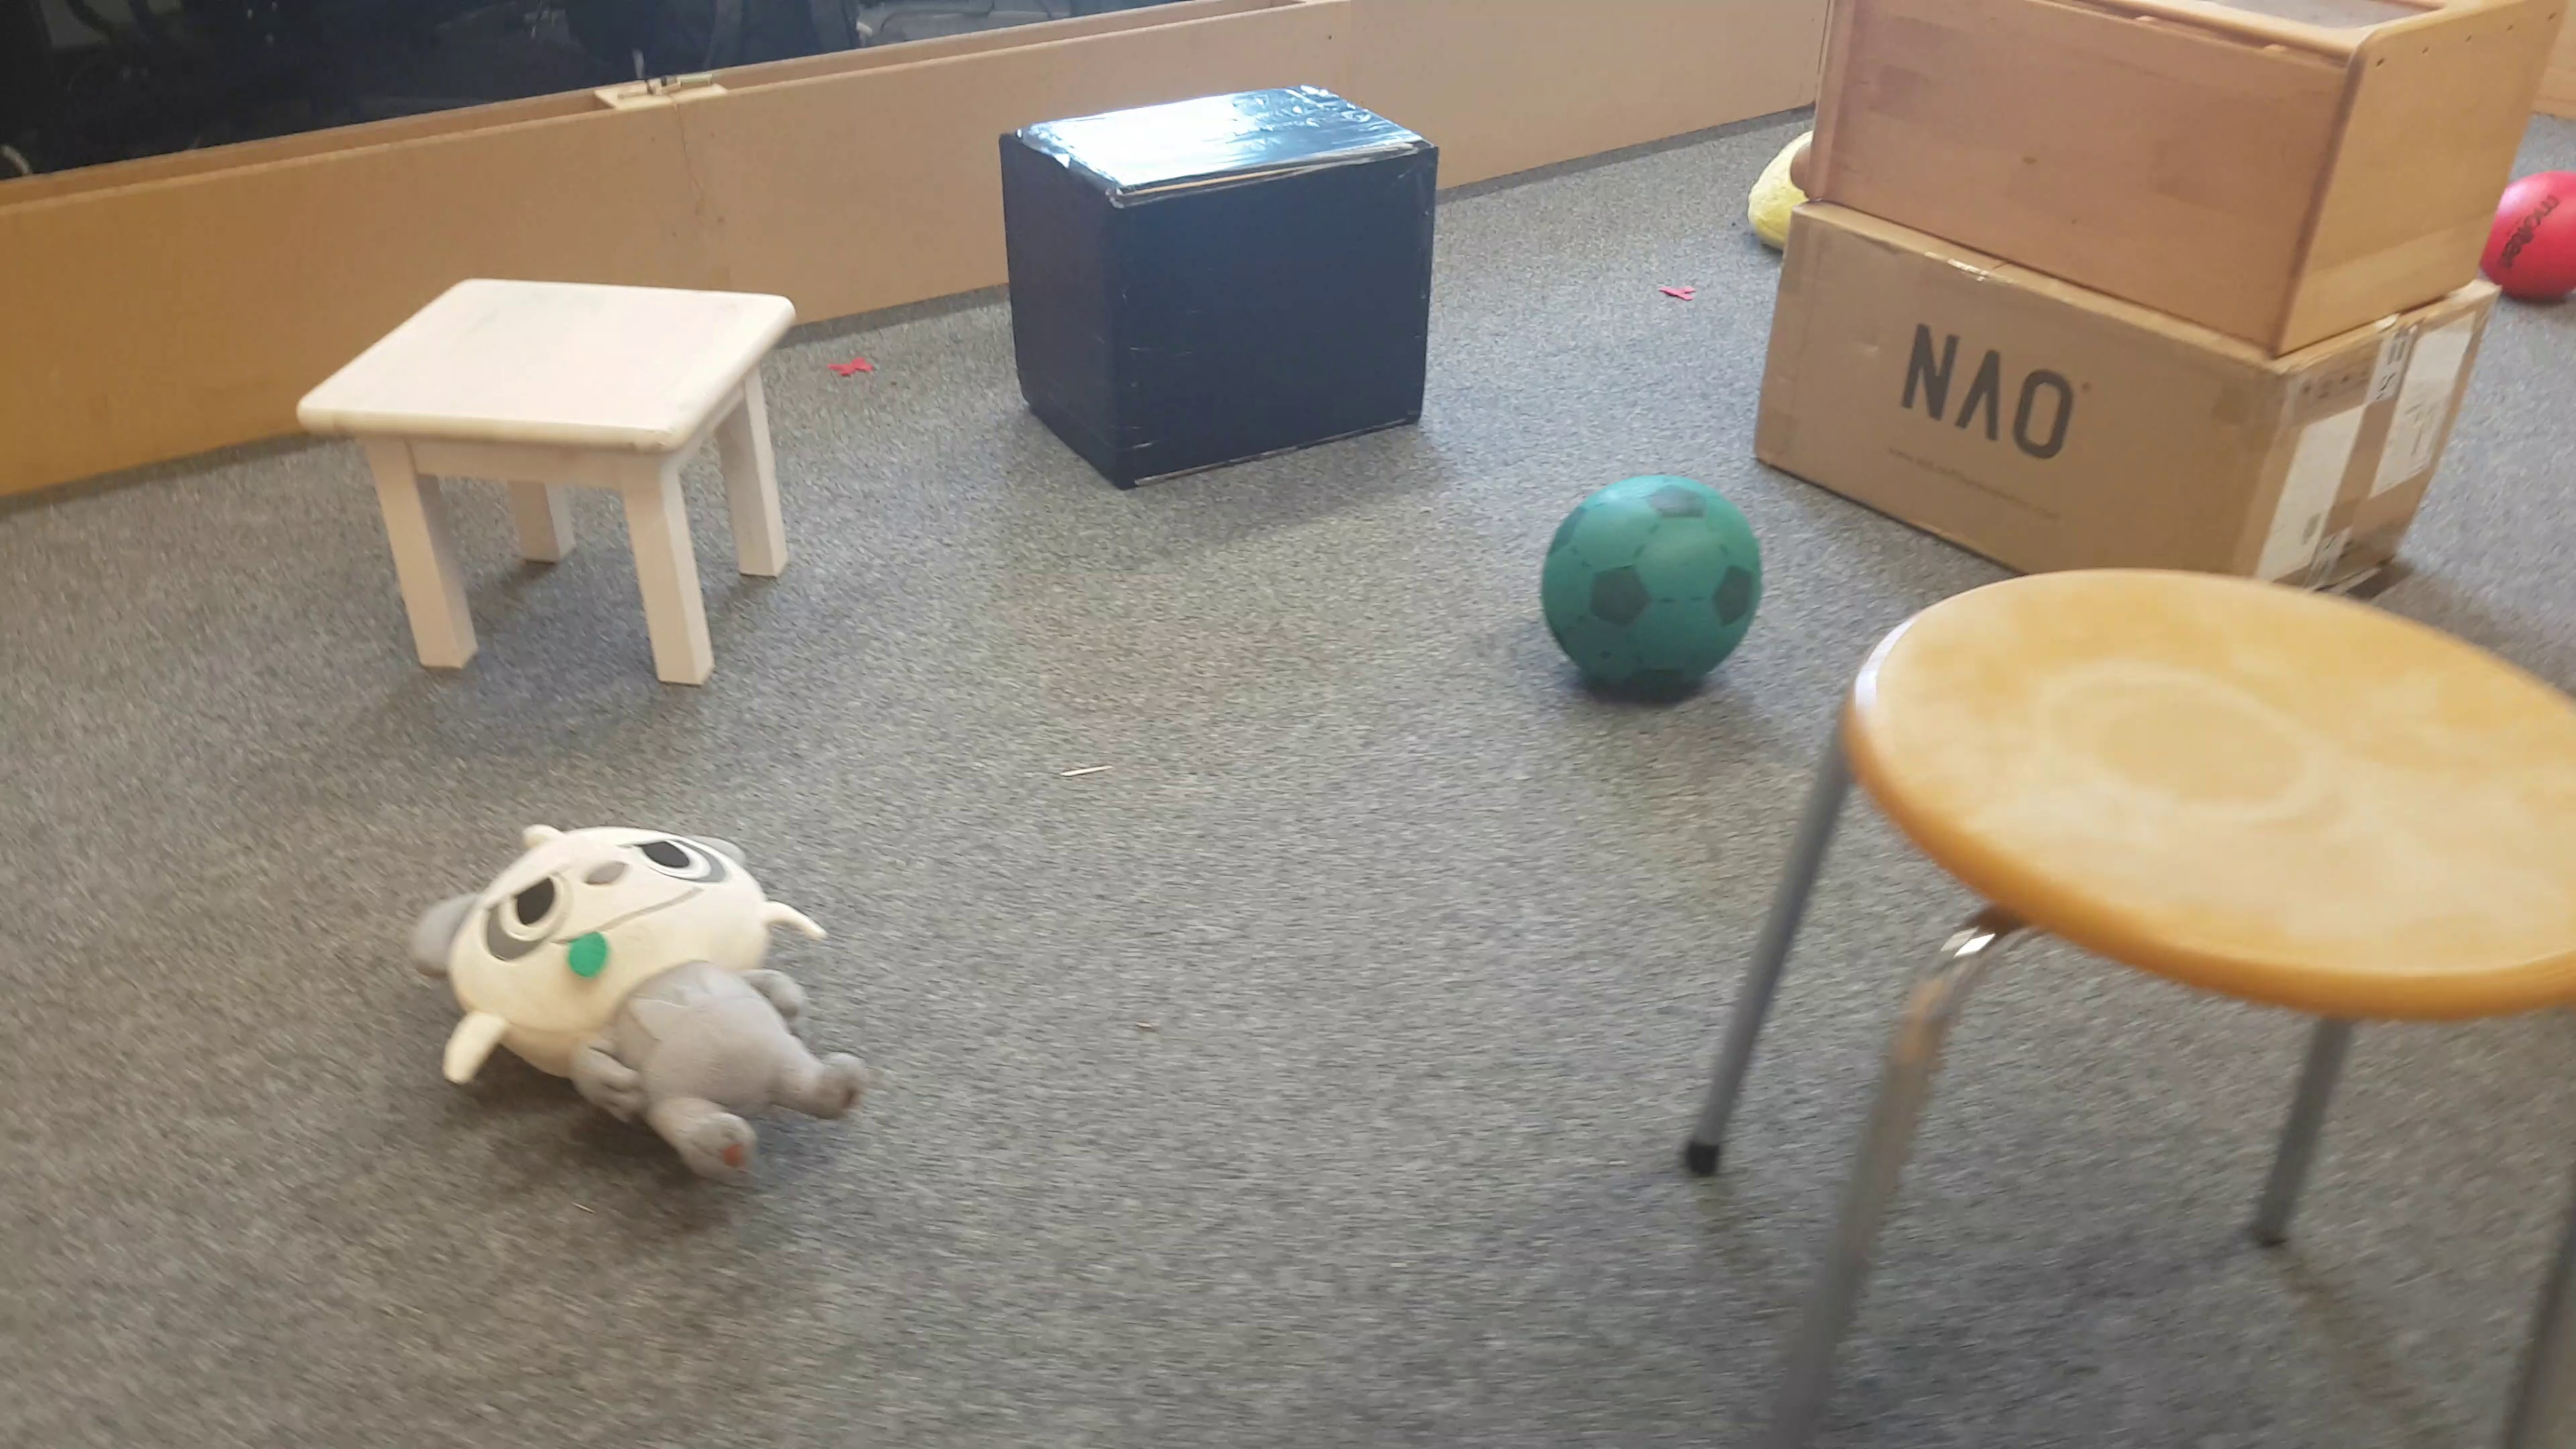grasp: (409, 814, 869, 1185), (1750, 134, 1789, 249)
kick: (1545, 476, 1766, 702), (2512, 177, 2574, 317)
